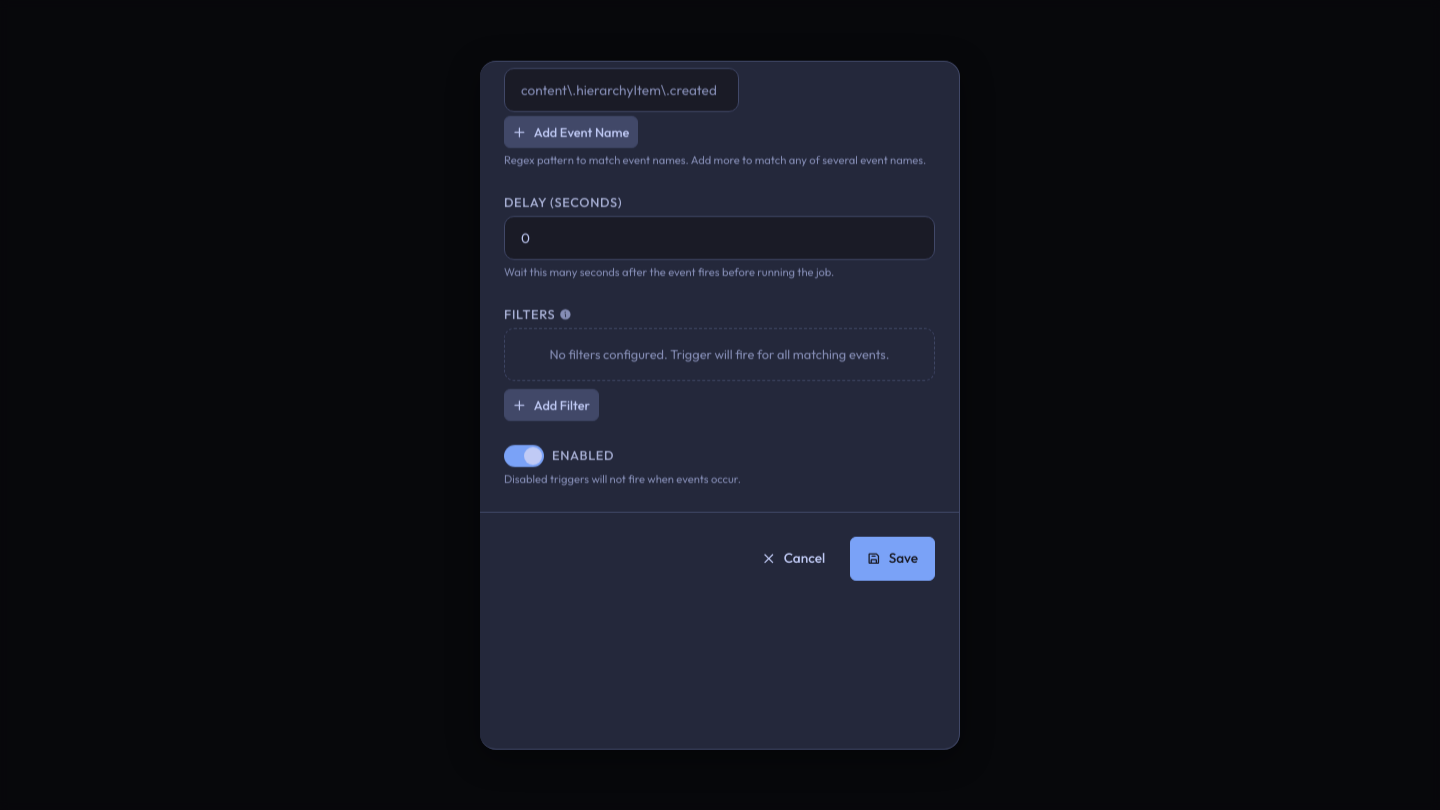
it: EventTriggerForm - Filters › adds filter when Add Filter button is clicked
This screenshot has width=1440, height=810.
(page scrolled)
Click the button "Add Filter": point(552, 405) top-left (504, 389), bottom-right (599, 421)
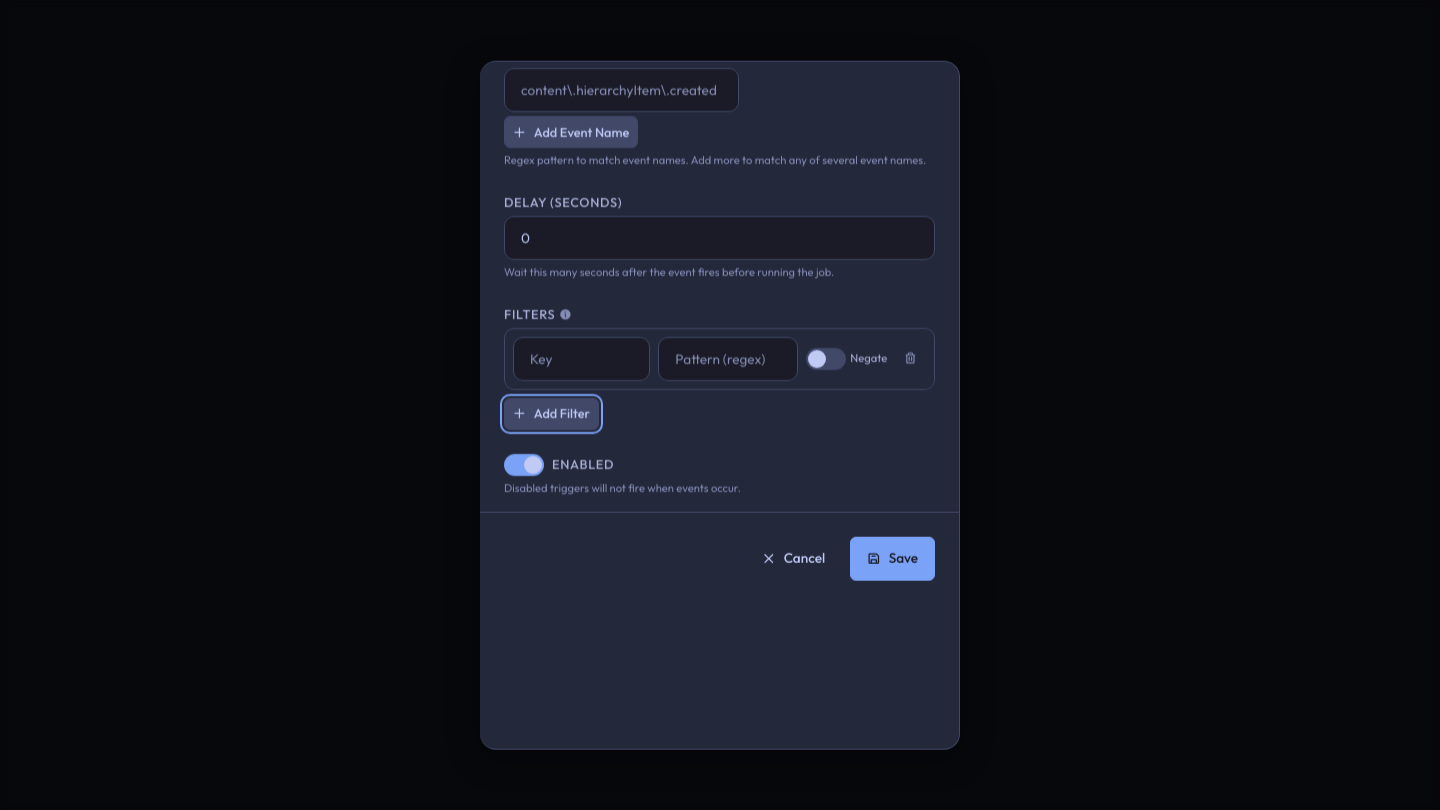
Expected: the field named "filter 1 key" is shown, top-left (514, 340), bottom-right (649, 377)
Expected: the field named "filter 1 pattern" is shown, top-left (659, 340), bottom-right (797, 377)
Expected: the text "No filters configured" is gone
